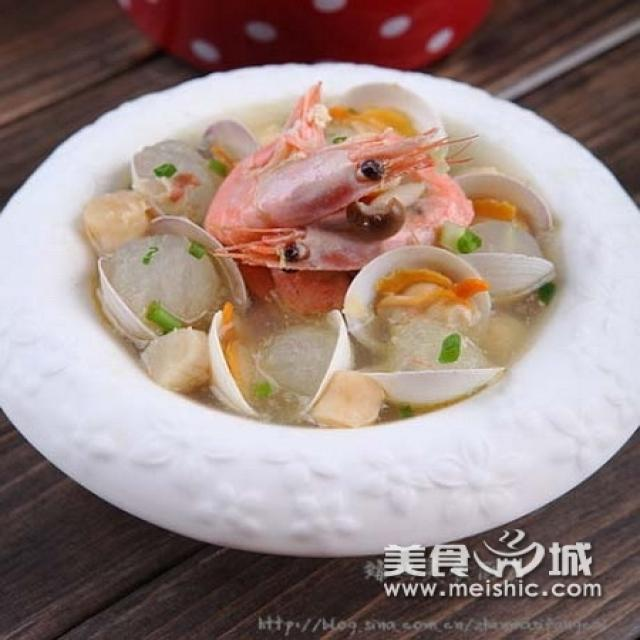汤锅炖物: (74, 100, 573, 437)
